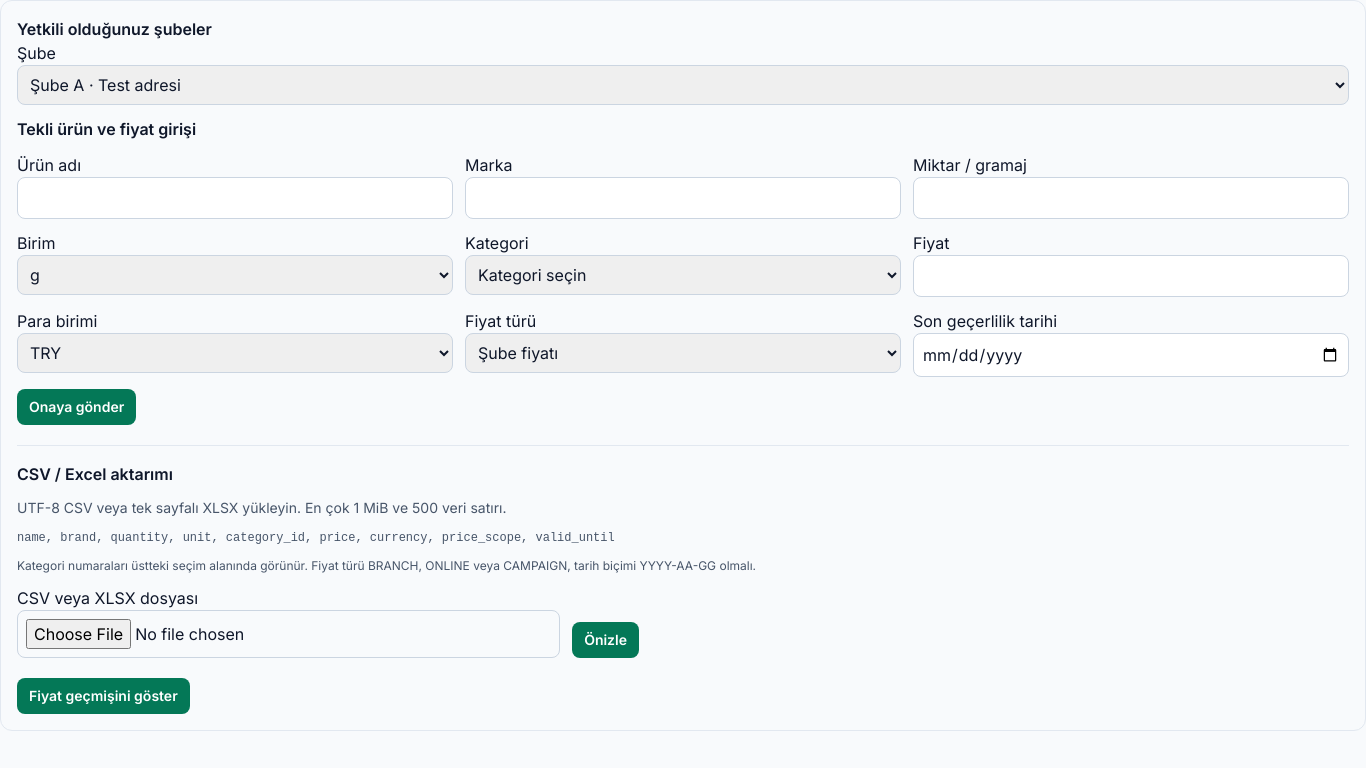
it: shows row errors and commits the valid subset after the owner confirms
Earlier steps of the test are not shown.
Click the button "Önizle" at (606, 640), box [572,622,639,658]
(page scrolled)
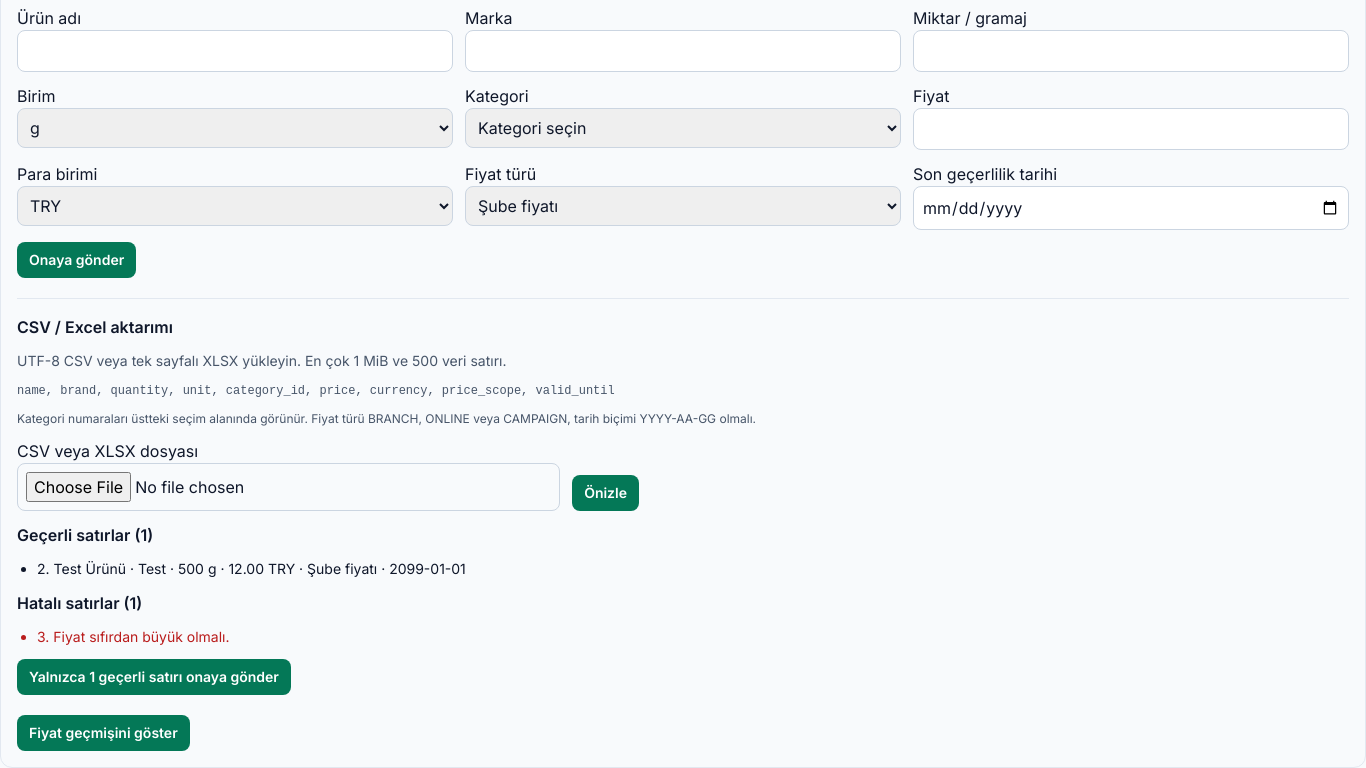
Expected: the list item "3. Fiyat sıfırdan büyük olmalı." is shown, [37,628,230,645]
Expected: the list item "Test Ürünü" is shown, [54,560,126,577]
Click the button "Yalnızca 1 geçerli satırı onaya gönder" at (154, 677), box [17,659,291,695]
(page scrolled)
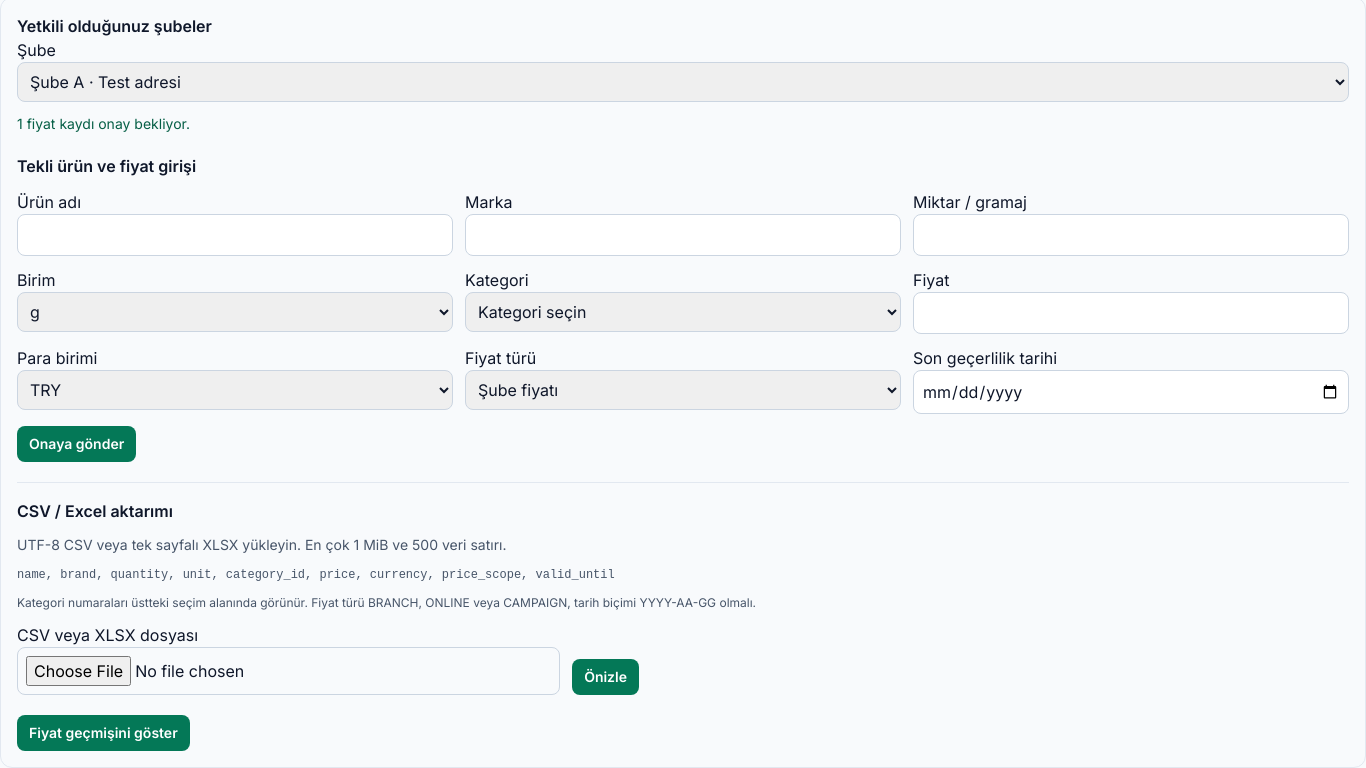
Expected: the text "1 fiyat kaydı onay bekliyor." is shown, [17,115,190,132]
